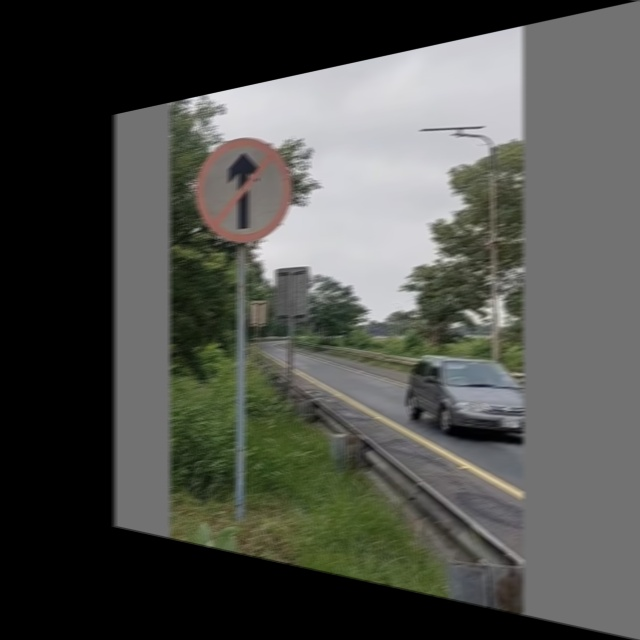No_Entry: (197, 131, 291, 244)
